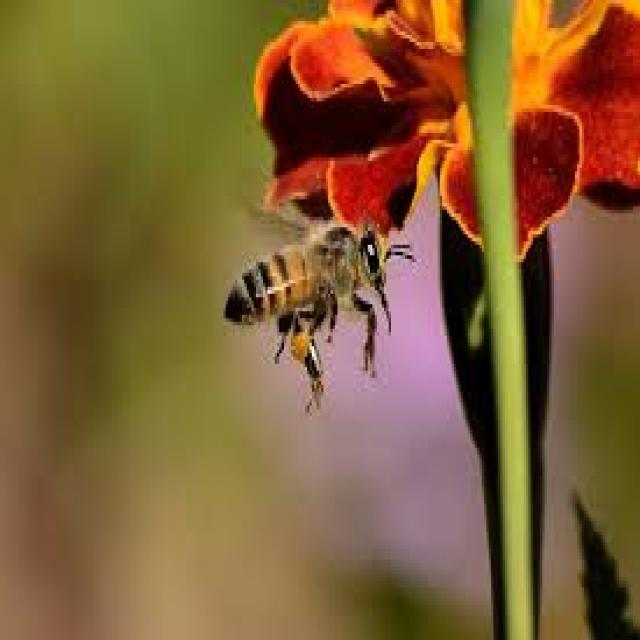Bees: (222, 193, 417, 413)
